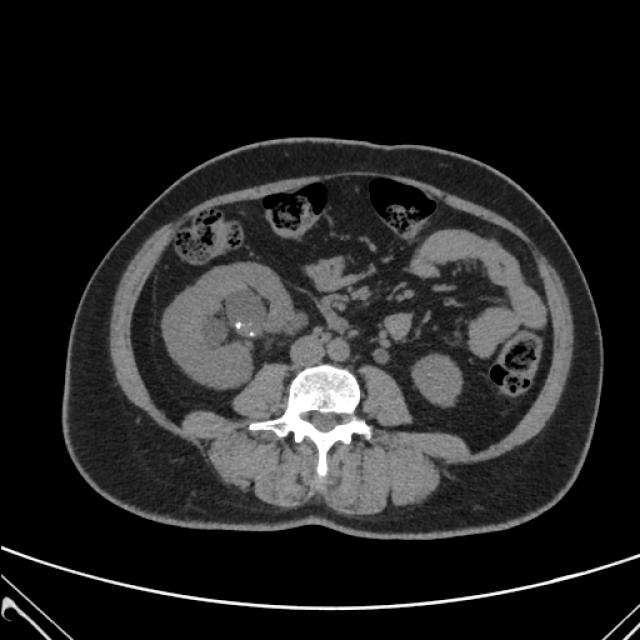kidney: (160, 262, 299, 391), (410, 352, 464, 406)
stone: (248, 329, 256, 336), (235, 320, 242, 328)
